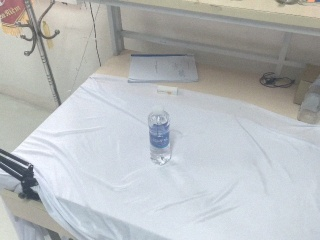bottle: (148, 105, 172, 166)
